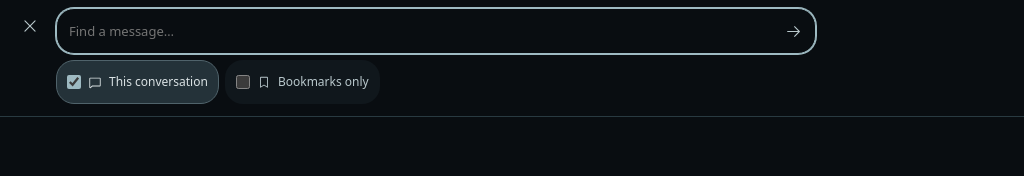
Test: search keeps named filters and submits their selected values with Enter
The width and height of the screenshot is (1024, 176).
Click the checkbox labelled "This conversation".
click(74, 82)  # box [67,75,81,89]
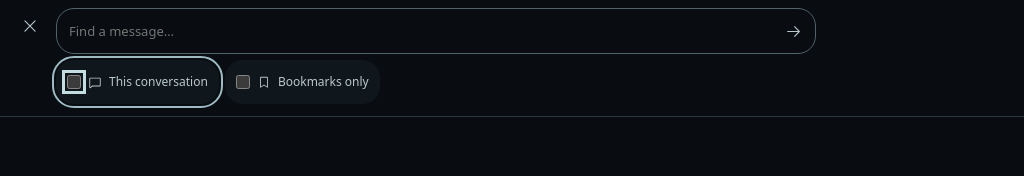
Click the checkbox labelled "Bookmarks only".
click(243, 82)  # box [236,75,250,89]
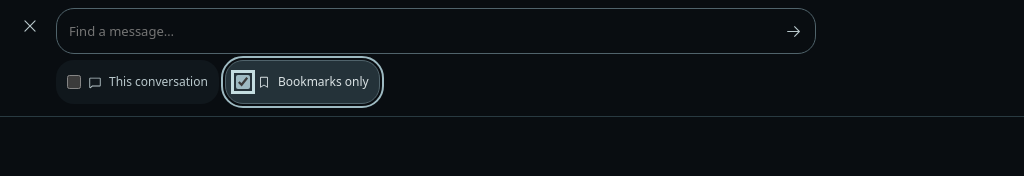
Type "saved note" into the search field named "Search transcript".
click(414, 31); type("saved note")  # box [57,9,771,53]
Then press Enter
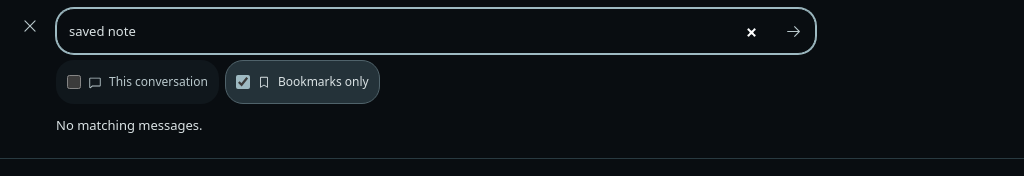
Now the text "No matching messages." is shown, box [56,116,203,134]
